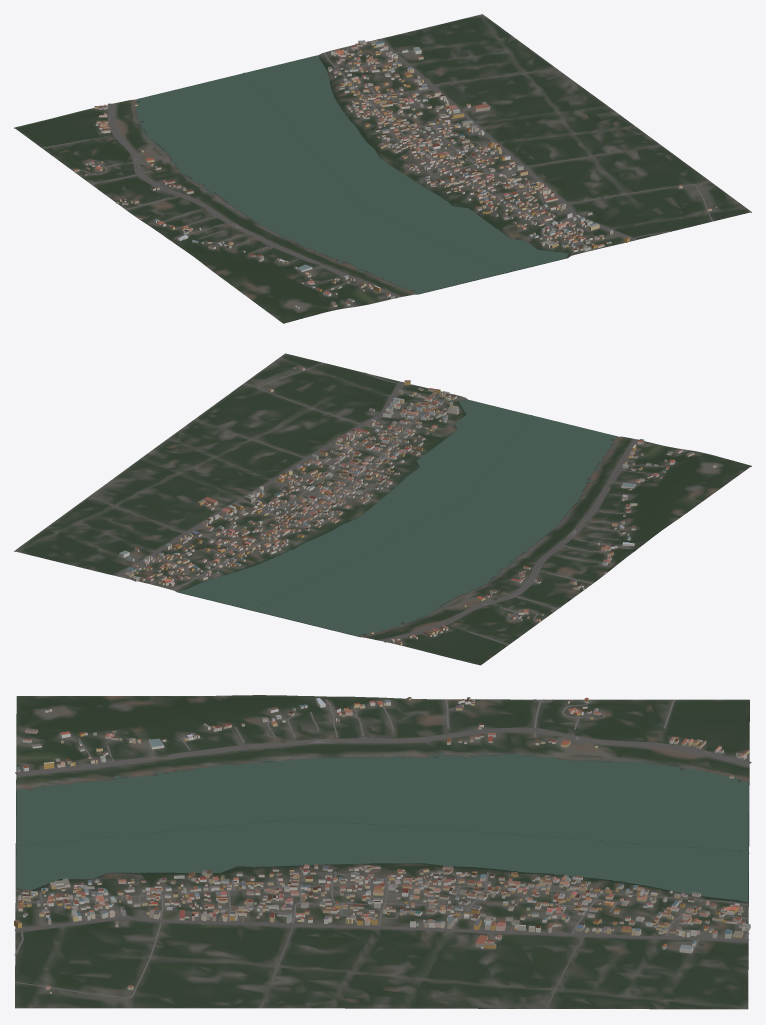
3 renders of one model, top to bottom at view 1: azimuth 30°, elevation 25°; view 2: azimuth 150°, elevation 25°; view 3: azimuth 270°, elevation 25°, orthographic. The views are drawn at different scales.
Visible parts, largest first — view 1: ground, water, buildings, roads; view 2: ground, water, buildings, roads; view 3: ground, water, buildings, roads.
Boxes of the visible parts, x1,y1,x2,y2 form: ground: [14, 14, 751, 323]; water: [136, 55, 568, 293]; buildings: [74, 40, 716, 308]; roads: [42, 38, 713, 306]; ground: [14, 353, 751, 665]; water: [178, 400, 616, 635]; buildings: [119, 367, 716, 645]; roads: [89, 363, 684, 645]; ground: [15, 695, 749, 1009]; water: [15, 753, 749, 901]; buildings: [14, 697, 750, 993]; roads: [14, 699, 751, 1008].
Size of the model in its own units: 1404 by 21.16 by 1411.
